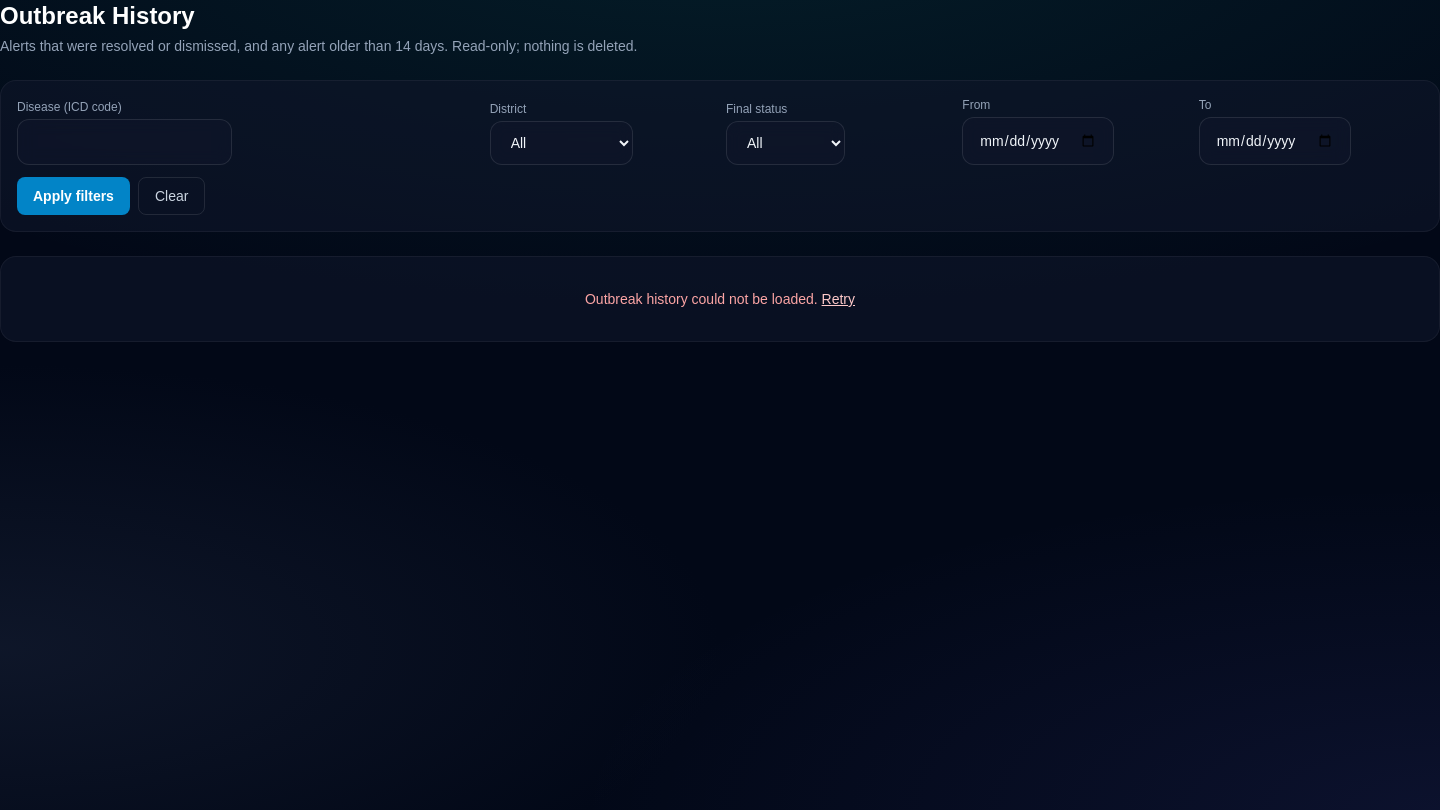
error state with retry; never shows numbers on error
Check: the message with test id "history-error" shows "Outbreak history could not be loaded.", box x1=585 y1=291 x2=818 y2=307
Click the button "Retry" at (838, 299), box x1=822 y1=289 x2=855 y2=309
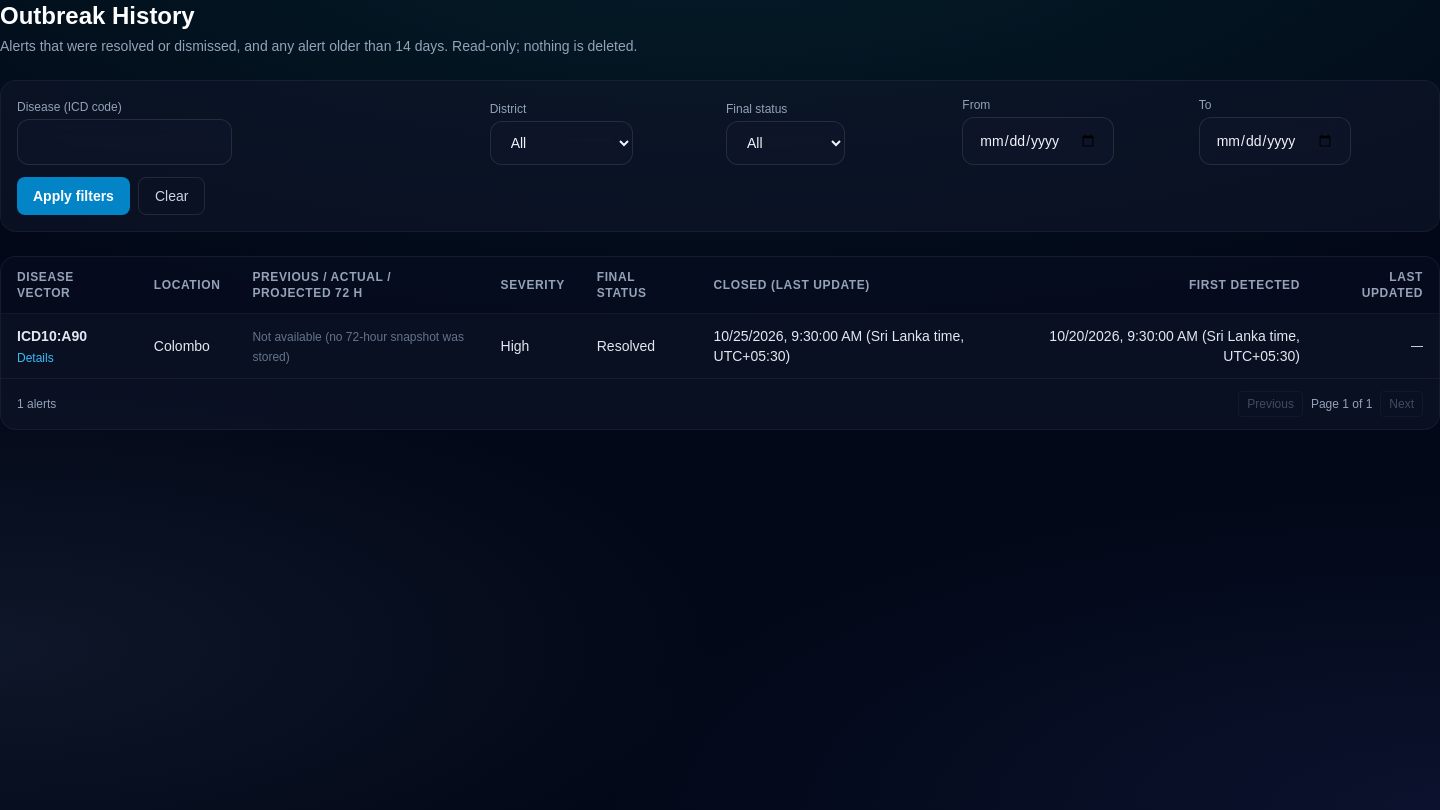
Check: the table with test id "history-rows" is shown, box x1=17 y1=328 x2=1423 y2=366
